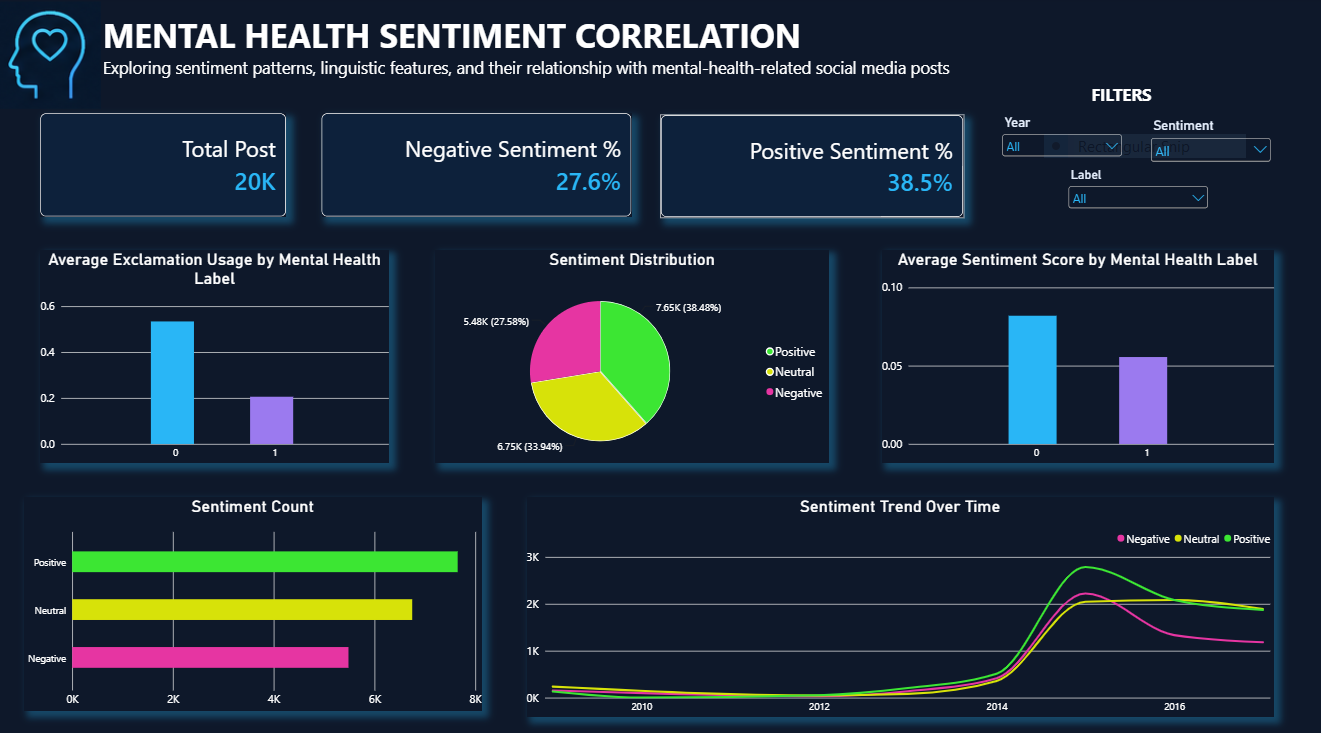

What the dashboard file says about the page in this screenshot:
{"tool":"powerbi","page":{"name":"Page 1","canvas":[1920,1080],"ordinal":0},"visuals":[{"type":"image","box":[0,0,148.2,168.8],"z":0},{"type":"textbox","box":[150.7,21.8,1251,121.7],"z":1},{"type":"cardVisual","fields":{"Data":["Mental_Health_Sentiment_Final.Total Post"]},"box":[59.9,168.9,357.7,150.7],"z":2},{"type":"cardVisual","fields":{"Data":["Mental_Health_Sentiment_Final.Negative Sentiment %"]},"box":[468.5,168.9,450.3,150.7],"z":3},{"type":"cardVisual","fields":{"Data":["Mental_Health_Sentiment_Final.Positive Sentiment %"]},"box":[960.5,170.7,441.2,150.7],"z":4},{"type":"pieChart","title":"Sentiment Distribution","fields":{"Category":["Mental_Health_Sentiment_Final.sentiment"],"Y":["CountNonNull(Mental_Health_Sentiment_Final.post_id)"]},"box":[633.7,366.8,572,310.5],"z":5},{"type":"lineChart","title":"Sentiment Trend Over Time","fields":{"Category":["Mental_Health_Sentiment_Final.year"],"Y":["Count(Mental_Health_Sentiment_Final.post_id)"],"Series":["Mental_Health_Sentiment_Final.sentiment"]},"box":[766.2,726.3,1085.8,319.6],"z":6},{"type":"clusteredBarChart","title":"Sentiment Count","fields":{"Y":["CountNonNull(Mental_Health_Sentiment_Final.sentiment)"],"Category":["Mental_Health_Sentiment_Final.sentiment"]},"box":[36.3,726.3,664.6,310.5],"z":7},{"type":"clusteredColumnChart","title":"Average Exclamation Usage by Mental Health Label","fields":{"Category":["Mental_Health_Sentiment_Final.label"],"Y":["Avg(Mental_Health_Sentiment_Final.exclamation_count)"]},"box":[59.9,366.8,506.6,310.5],"z":8},{"type":"clusteredColumnChart","title":"Average Sentiment Score by Mental Health Label","fields":{"Category":["Mental_Health_Sentiment_Final.label"],"Y":["Avg(Mental_Health_Sentiment_Final.sentiment_score)"]},"box":[1281.9,366.8,570.1,310.5],"z":9},{"type":"slicer","fields":{"Values":["Mental_Health_Sentiment_Final.year"]},"box":[1452.6,170.7,183.4,96.2],"z":10},{"type":"slicer","fields":{"Values":["Mental_Health_Sentiment_Final.sentiment"]},"box":[1668.7,176.1,183.4,89],"z":11},{"type":"slicer","fields":{"Values":["Mental_Health_Sentiment_Final.label"]},"box":[1548.8,246.9,212.4,81.7],"z":12},{"type":"textbox","box":[1587,125.3,265.1,43.6],"z":13}]}

Visuals, with their boxes in screenshot pixels (x1, y1, x2, y2), scaled from the page's 1920x1080 canvas onto the 1321x733 screenshot:
image: {"left": 0, "top": 0, "right": 102, "bottom": 115}
textbox: {"left": 104, "top": 15, "right": 964, "bottom": 97}
cardVisual - Mental_Health_Sentiment_Final.Total Post: {"left": 41, "top": 115, "right": 287, "bottom": 217}
cardVisual - Mental_Health_Sentiment_Final.Negative Sentiment %: {"left": 322, "top": 115, "right": 632, "bottom": 217}
cardVisual - Mental_Health_Sentiment_Final.Positive Sentiment %: {"left": 661, "top": 116, "right": 964, "bottom": 218}
"Sentiment Distribution" pieChart: {"left": 436, "top": 249, "right": 830, "bottom": 460}
"Sentiment Trend Over Time" lineChart: {"left": 527, "top": 493, "right": 1274, "bottom": 710}
"Sentiment Count" clusteredBarChart: {"left": 25, "top": 493, "right": 482, "bottom": 704}
"Average Exclamation Usage by Mental Health Label" clusteredColumnChart: {"left": 41, "top": 249, "right": 390, "bottom": 460}
"Average Sentiment Score by Mental Health Label" clusteredColumnChart: {"left": 882, "top": 249, "right": 1274, "bottom": 460}
slicer - Mental_Health_Sentiment_Final.year: {"left": 999, "top": 116, "right": 1126, "bottom": 181}
slicer - Mental_Health_Sentiment_Final.sentiment: {"left": 1148, "top": 120, "right": 1274, "bottom": 180}
slicer - Mental_Health_Sentiment_Final.label: {"left": 1066, "top": 168, "right": 1212, "bottom": 223}
textbox: {"left": 1092, "top": 85, "right": 1274, "bottom": 115}
